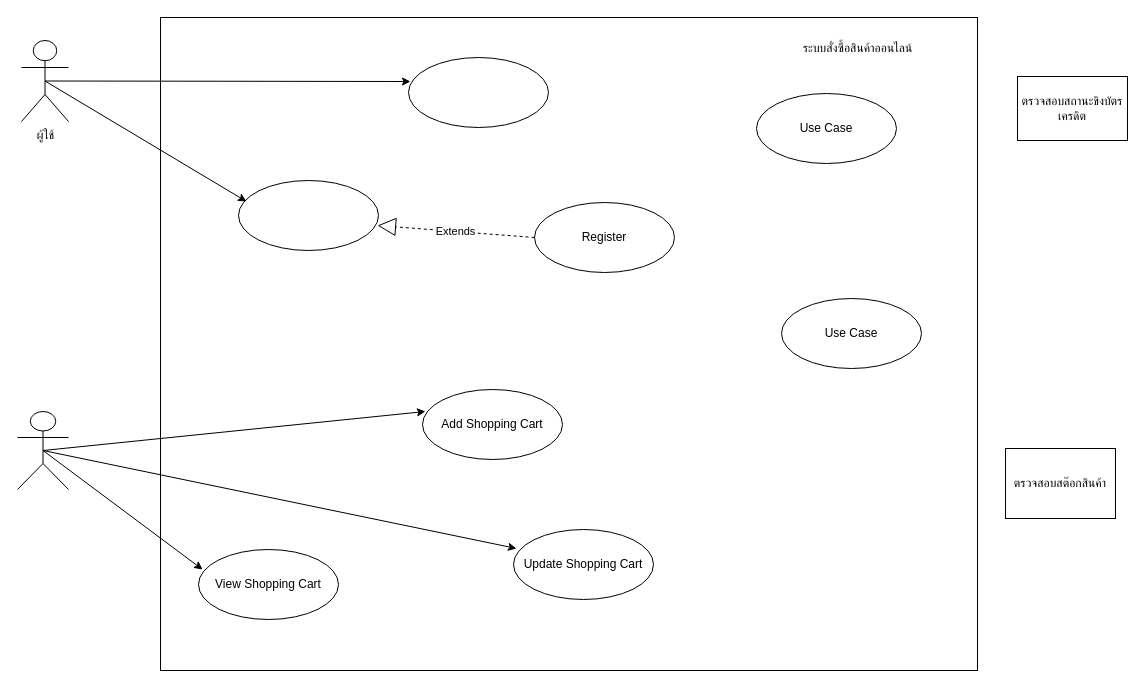
Image size: 1145x688. Some labels were removed from this diagram. Here are the shapes that lost their labels. From the top down, the box of each, then its label:
(408, 56, 548, 128): Browse Product
(238, 180, 378, 250): Log in
(16, 410, 68, 490): ลูกค้า
